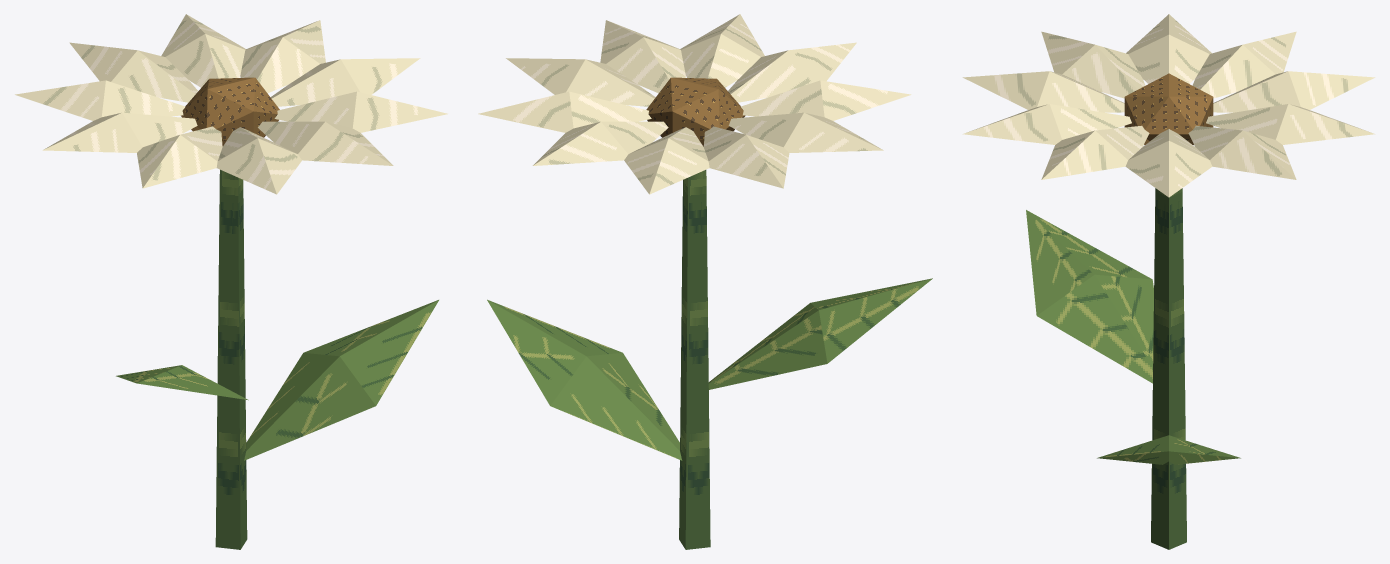
The model's file is flor-margarida-v01.gltf.
The picture shows the model from 3 angles, left to right: view 1: azimuth 30°, elevation 25°; view 2: azimuth 150°, elevation 25°; view 3: azimuth 270°, elevation 25°; orthographic projection.
Visible parts, largest first — view 1: petalas, folhas, hastes, miolo; view 2: petalas, folhas, hastes, miolo; view 3: petalas, folhas, hastes, miolo.
Part boxes in pixels (x1,y1,x2,y2): petalas: [15, 14, 447, 194]; folhas: [116, 300, 438, 460]; hastes: [215, 169, 247, 549]; miolo: [181, 77, 279, 146]; petalas: [478, 14, 911, 194]; folhas: [487, 278, 932, 460]; hastes: [679, 170, 710, 549]; miolo: [646, 77, 745, 146]; petalas: [962, 14, 1375, 197]; folhas: [1026, 210, 1240, 464]; hastes: [1151, 188, 1186, 549]; miolo: [1124, 73, 1213, 144].
Size of the model in its own units: 0.63 by 0.6968 by 0.5706.
1 material, 1 textured.
